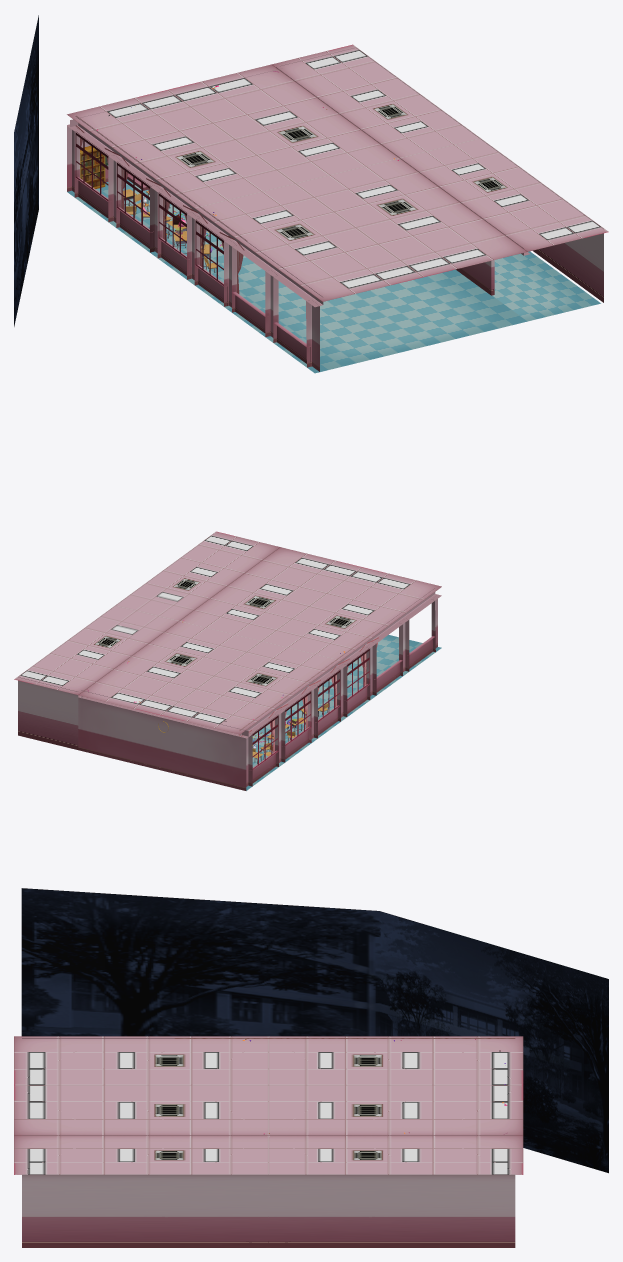
Rendered from Stage_27.FBX.
3 views of the same model, one above another, from view 1: azimuth 30°, elevation 25°; view 2: azimuth 150°, elevation 25°; view 3: azimuth 270°, elevation 25° (orthographic). The views are drawn at different scales.
Parts seen in each view (by area): view 1: sm_dancestage_gs0027_1, sm_dancestage_gs0027_12, sm_dancestage_gs0027_2; view 2: sm_dancestage_gs0027_1, sm_dancestage_gs0027_2; view 3: sm_dancestage_gs0027_1, sm_dancestage_gs0027_12.
Boxes of the visible parts, left/top/right/bottom form: sm_dancestage_gs0027_1: left=67, top=44, right=608, bottom=373; sm_dancestage_gs0027_12: left=14, top=15, right=38, bottom=326; sm_dancestage_gs0027_2: left=75, top=132, right=223, bottom=285; sm_dancestage_gs0027_1: left=14, top=531, right=441, bottom=790; sm_dancestage_gs0027_2: left=252, top=648, right=369, bottom=769; sm_dancestage_gs0027_1: left=14, top=1036, right=523, bottom=1247; sm_dancestage_gs0027_12: left=21, top=888, right=608, bottom=1173.
Size of the model in its own units: 29.29 by 12.08 by 30.28.
3 materials, 3 textured.
